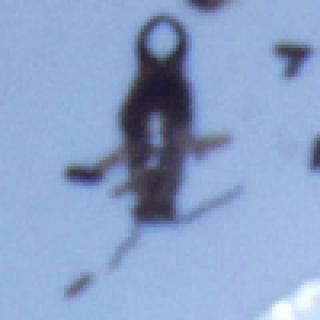earwig: (66, 3, 261, 274)
